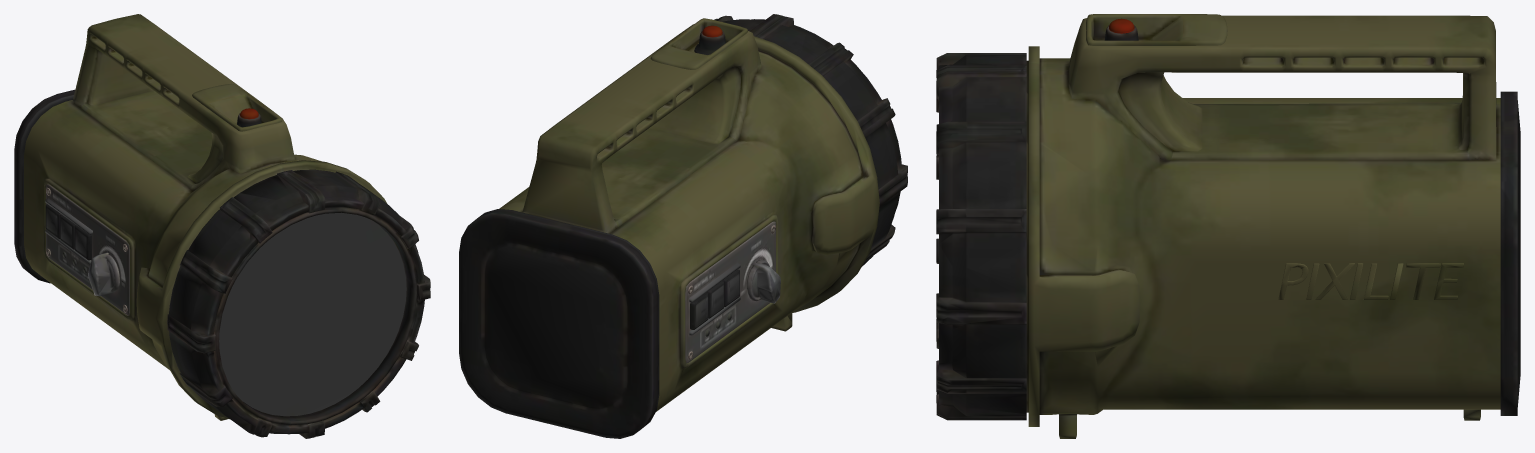
File: portable_searchlight_512.glb
3 renders of one model, left to right at view 1: azimuth 30°, elevation 25°; view 2: azimuth 150°, elevation 25°; view 3: azimuth 270°, elevation 25°, orthographic. The views are drawn at different scales.
Parts seen in each view (by area): view 1: portable_searchlight; view 2: portable_searchlight; view 3: portable_searchlight.
Boxes of the visible parts, left/top/right/bottom form: portable_searchlight: left=14, top=14, right=430, bottom=438; portable_searchlight: left=459, top=14, right=907, bottom=438; portable_searchlight: left=936, top=14, right=1520, bottom=438.
Bounding box in the file's own units: 0.1653 × 0.1854 × 0.2534.
2 materials, 2 textured.
